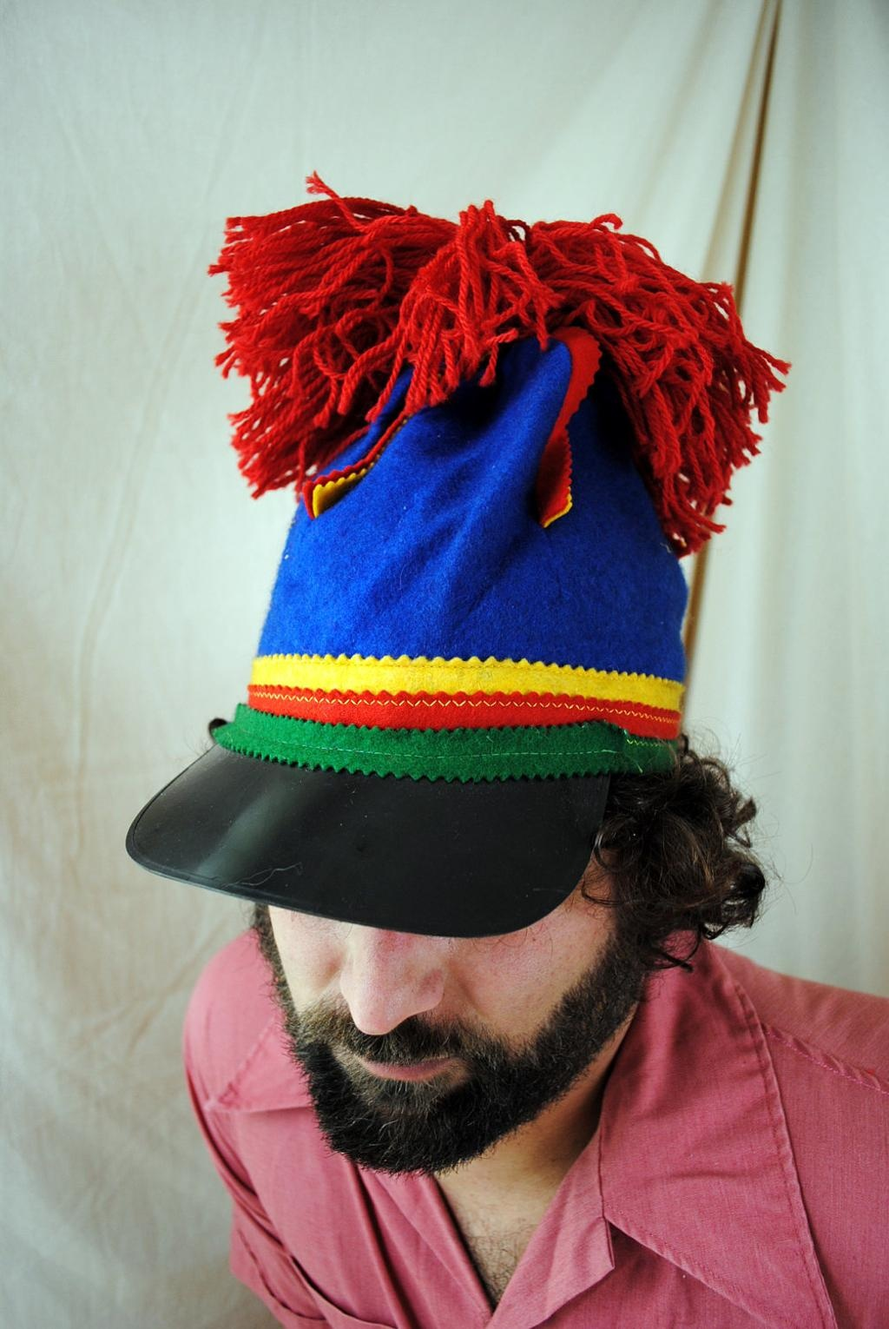human_face: (269, 739, 634, 1162)
